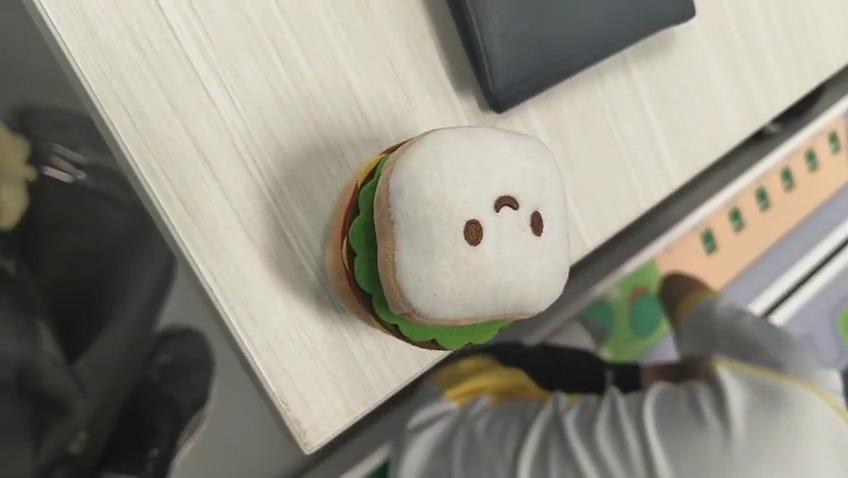objects: (328, 126, 573, 356)
